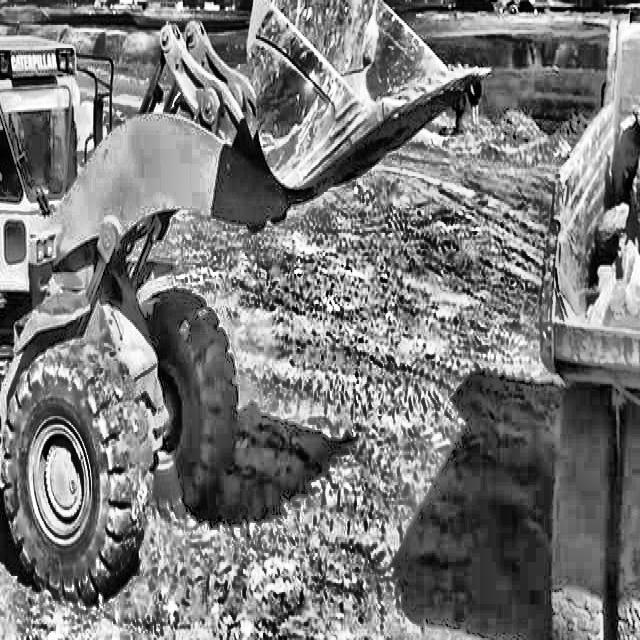buldozerpayloadergrader: (0, 0, 494, 617)
dump_truck: (530, 0, 640, 640)
